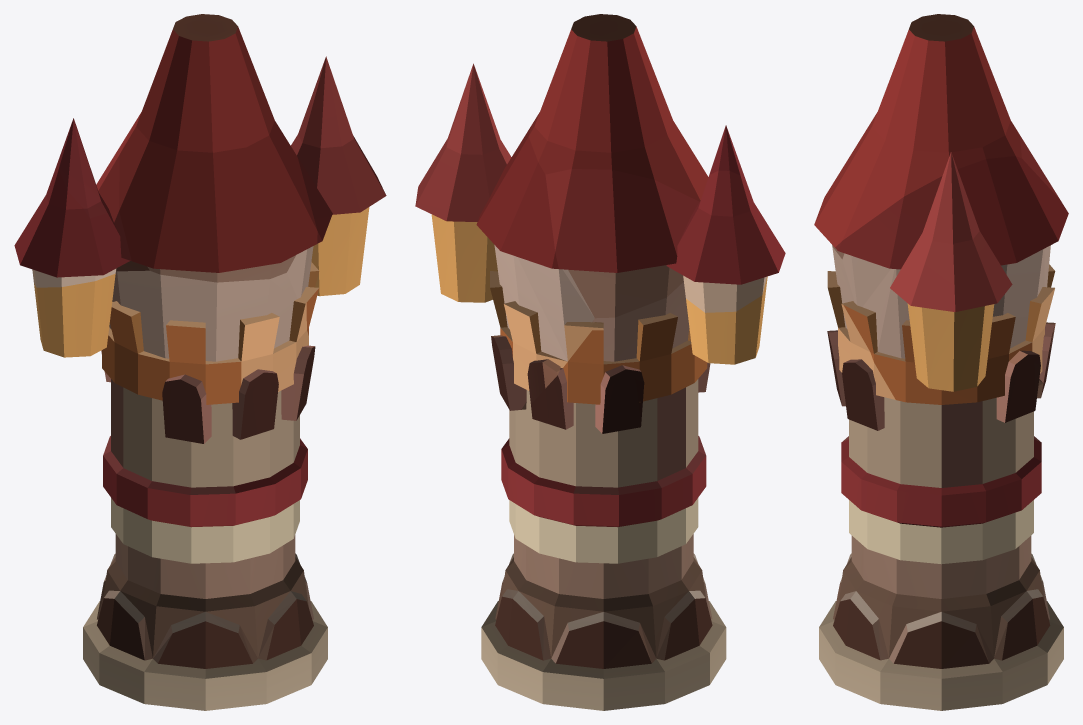
The model's file is castle09.fbx.
3 views of the same model, side by side, from view 1: azimuth 30°, elevation 25°; view 2: azimuth 150°, elevation 25°; view 3: azimuth 270°, elevation 25° (orthographic).
Parts seen in each view (by area): view 1: castle09; view 2: castle09; view 3: castle09.
Boxes of the visible parts, x1=… form: castle09: x1=14, y1=14, x2=386, y2=710; castle09: x1=415, y1=14, x2=785, y2=710; castle09: x1=814, y1=14, x2=1068, y2=710.
Size of the model in its own units: 3.28 by 5.51 by 2.02.
1 material, 1 textured.
